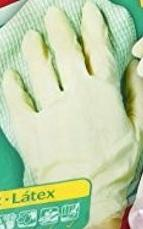gloves: (0, 4, 141, 228)
